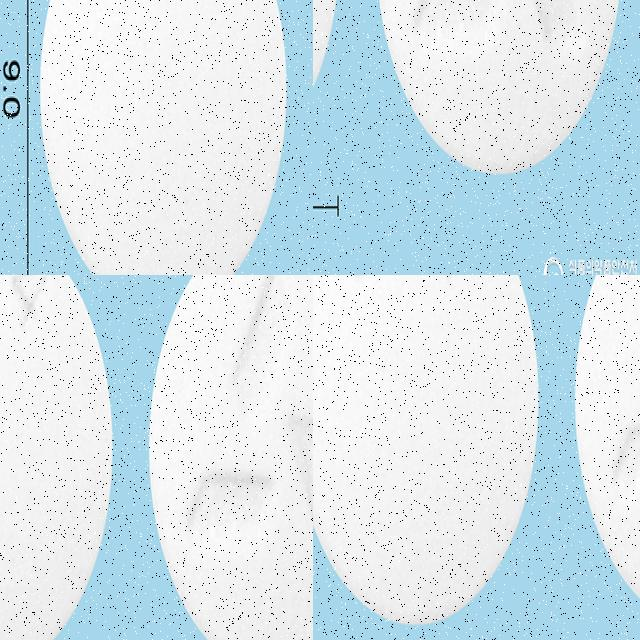Levofloxacin Tab- Dongsung: (172, 128, 313, 275)
Samsung Clarithromycin Tab: (313, 275, 541, 622), (574, 275, 640, 626)
Vancozin Cap-250mg: (0, 471, 172, 640), (235, 275, 313, 640)
